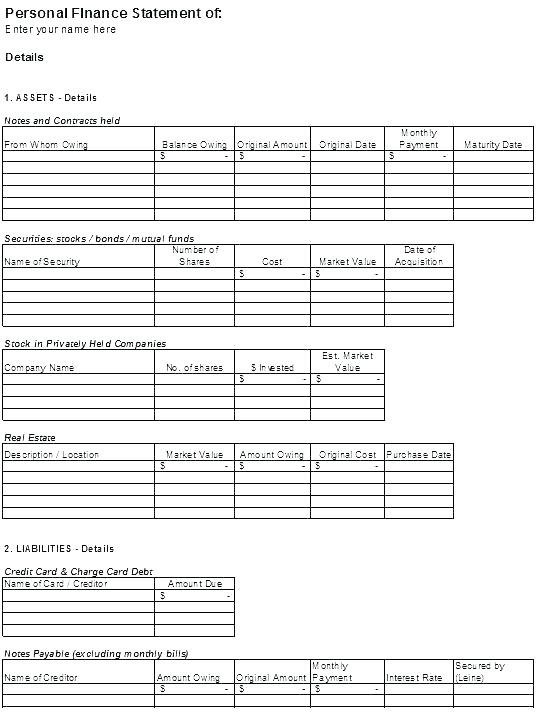textbox: (1, 147, 157, 164), (1, 158, 157, 175), (1, 170, 157, 187), (1, 182, 157, 199), (1, 193, 157, 210), (1, 205, 157, 222), (1, 264, 157, 281), (1, 276, 157, 293), (1, 287, 157, 304), (1, 299, 157, 316), (1, 311, 157, 328), (1, 370, 157, 387), (1, 381, 157, 398), (1, 393, 157, 410), (1, 405, 157, 422), (1, 456, 157, 473), (1, 468, 157, 485), (1, 480, 157, 497), (1, 492, 157, 509), (1, 504, 157, 521), (1, 586, 157, 603), (1, 598, 157, 615), (1, 609, 157, 626), (1, 621, 157, 638), (1, 680, 157, 697), (1, 691, 157, 708), (450, 146, 536, 165), (450, 157, 536, 176), (450, 168, 536, 187), (450, 180, 536, 199), (450, 191, 536, 210), (449, 203, 535, 222), (150, 147, 237, 164), (151, 158, 238, 175), (151, 170, 238, 187), (151, 183, 238, 200), (151, 193, 238, 210), (151, 205, 238, 222), (151, 264, 238, 281), (150, 276, 237, 293), (151, 287, 238, 304), (150, 300, 237, 317), (151, 311, 238, 328), (151, 370, 238, 387), (151, 381, 238, 398), (151, 393, 238, 410), (150, 405, 237, 422), (151, 457, 238, 474), (151, 468, 238, 485), (150, 480, 237, 497), (150, 492, 237, 509), (150, 503, 237, 520), (150, 585, 237, 602), (151, 597, 238, 614), (150, 609, 237, 626), (150, 620, 237, 637), (151, 679, 238, 696), (150, 691, 237, 708), (230, 205, 312, 223), (231, 193, 313, 211), (231, 182, 313, 200), (232, 170, 314, 188), (231, 157, 313, 175), (231, 146, 313, 164), (231, 264, 313, 282), (231, 275, 313, 293), (231, 287, 313, 305), (230, 299, 312, 317), (231, 310, 313, 328), (232, 369, 314, 387), (232, 380, 314, 398), (231, 392, 313, 410), (231, 405, 313, 423), (232, 457, 314, 475), (230, 468, 312, 486), (230, 480, 312, 498), (231, 491, 313, 509), (231, 503, 313, 521), (450, 679, 536, 696), (450, 691, 536, 708), (307, 146, 387, 164), (307, 158, 387, 176), (307, 169, 387, 187), (307, 170, 387, 188), (307, 181, 387, 199), (307, 193, 387, 211), (307, 204, 387, 222), (308, 264, 388, 282), (307, 275, 387, 293), (307, 287, 387, 305), (306, 298, 386, 316), (305, 310, 385, 328), (307, 369, 387, 387), (307, 381, 387, 399), (306, 393, 386, 411), (306, 404, 386, 422), (231, 680, 314, 697), (230, 690, 313, 707), (381, 204, 455, 223), (382, 193, 456, 212), (381, 181, 455, 200), (381, 169, 455, 188), (382, 158, 456, 177), (382, 146, 456, 165), (381, 264, 455, 283), (382, 275, 456, 294), (381, 286, 455, 305), (381, 299, 455, 318), (381, 310, 455, 329), (382, 456, 456, 475), (382, 467, 456, 486), (382, 479, 456, 498), (382, 492, 456, 511), (382, 503, 456, 522), (381, 679, 455, 698), (381, 690, 455, 709), (307, 680, 386, 697), (308, 456, 387, 473), (305, 689, 384, 706), (307, 469, 386, 486), (307, 480, 386, 497), (308, 492, 387, 509), (307, 503, 386, 520)
